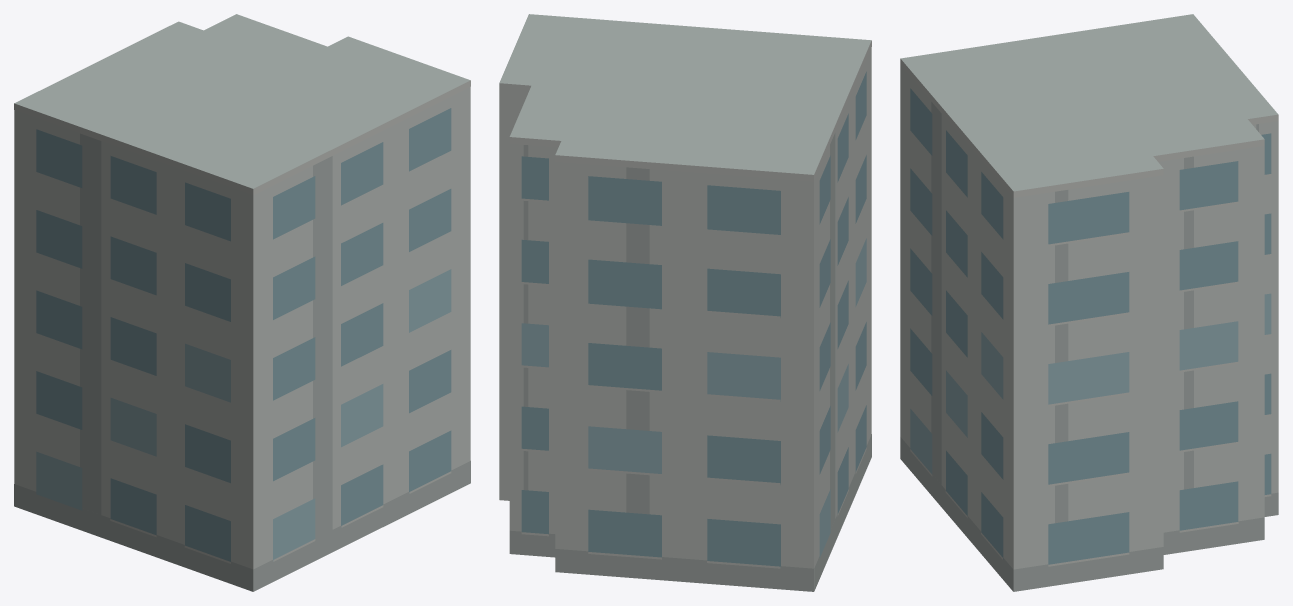
File: residential-2c191be6-2044-4d50-aac3-fa23fd1a7b7c.glb
3 views of the same model, side by side, from view 1: azimuth 30°, elevation 25°; view 2: azimuth 150°, elevation 25°; view 3: azimuth 270°, elevation 25° (orthographic). The views are drawn at different scales.
Visible parts, largest first — view 1: residential-2c191be6-2044-4d50-aac3-fa23fd1a7b7c.tmp; view 2: residential-2c191be6-2044-4d50-aac3-fa23fd1a7b7c.tmp; view 3: residential-2c191be6-2044-4d50-aac3-fa23fd1a7b7c.tmp.
Part boxes in pixels (x1,y1,x2,y2): residential-2c191be6-2044-4d50-aac3-fa23fd1a7b7c.tmp: (14, 14, 470, 591); residential-2c191be6-2044-4d50-aac3-fa23fd1a7b7c.tmp: (499, 14, 871, 591); residential-2c191be6-2044-4d50-aac3-fa23fd1a7b7c.tmp: (900, 14, 1278, 591).
Bounding box in the file's own units: 14.27 × 15 × 12.85.
